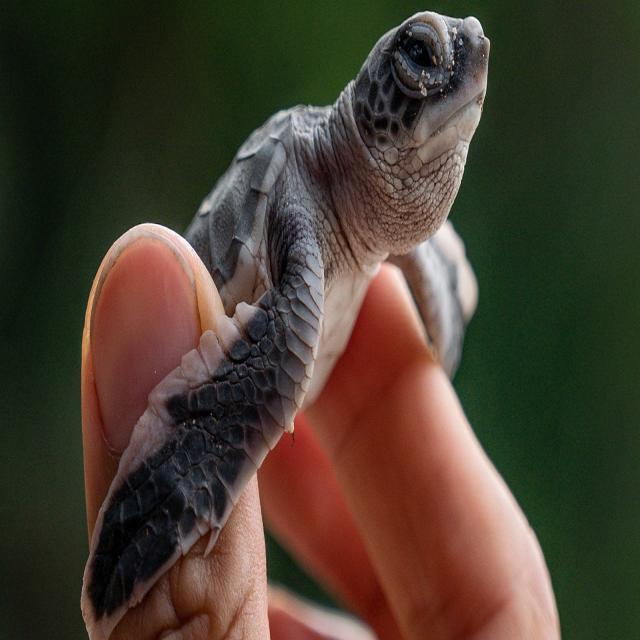turtle: (81, 11, 490, 638)
